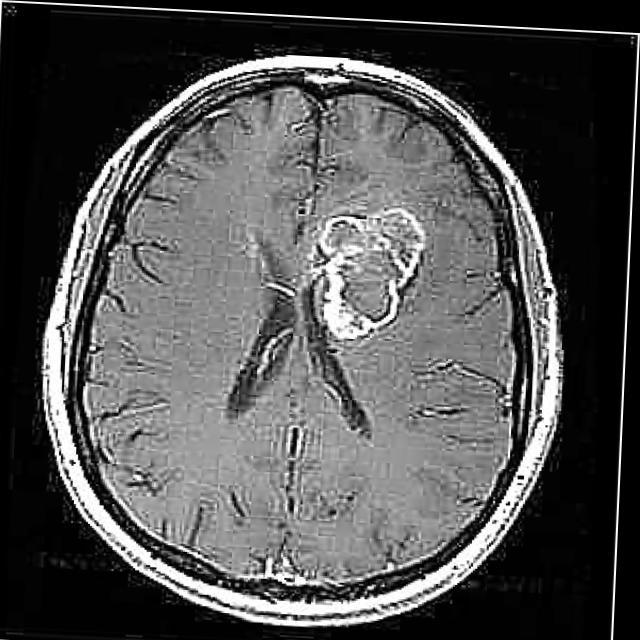Tumor: (318, 203, 429, 338)
